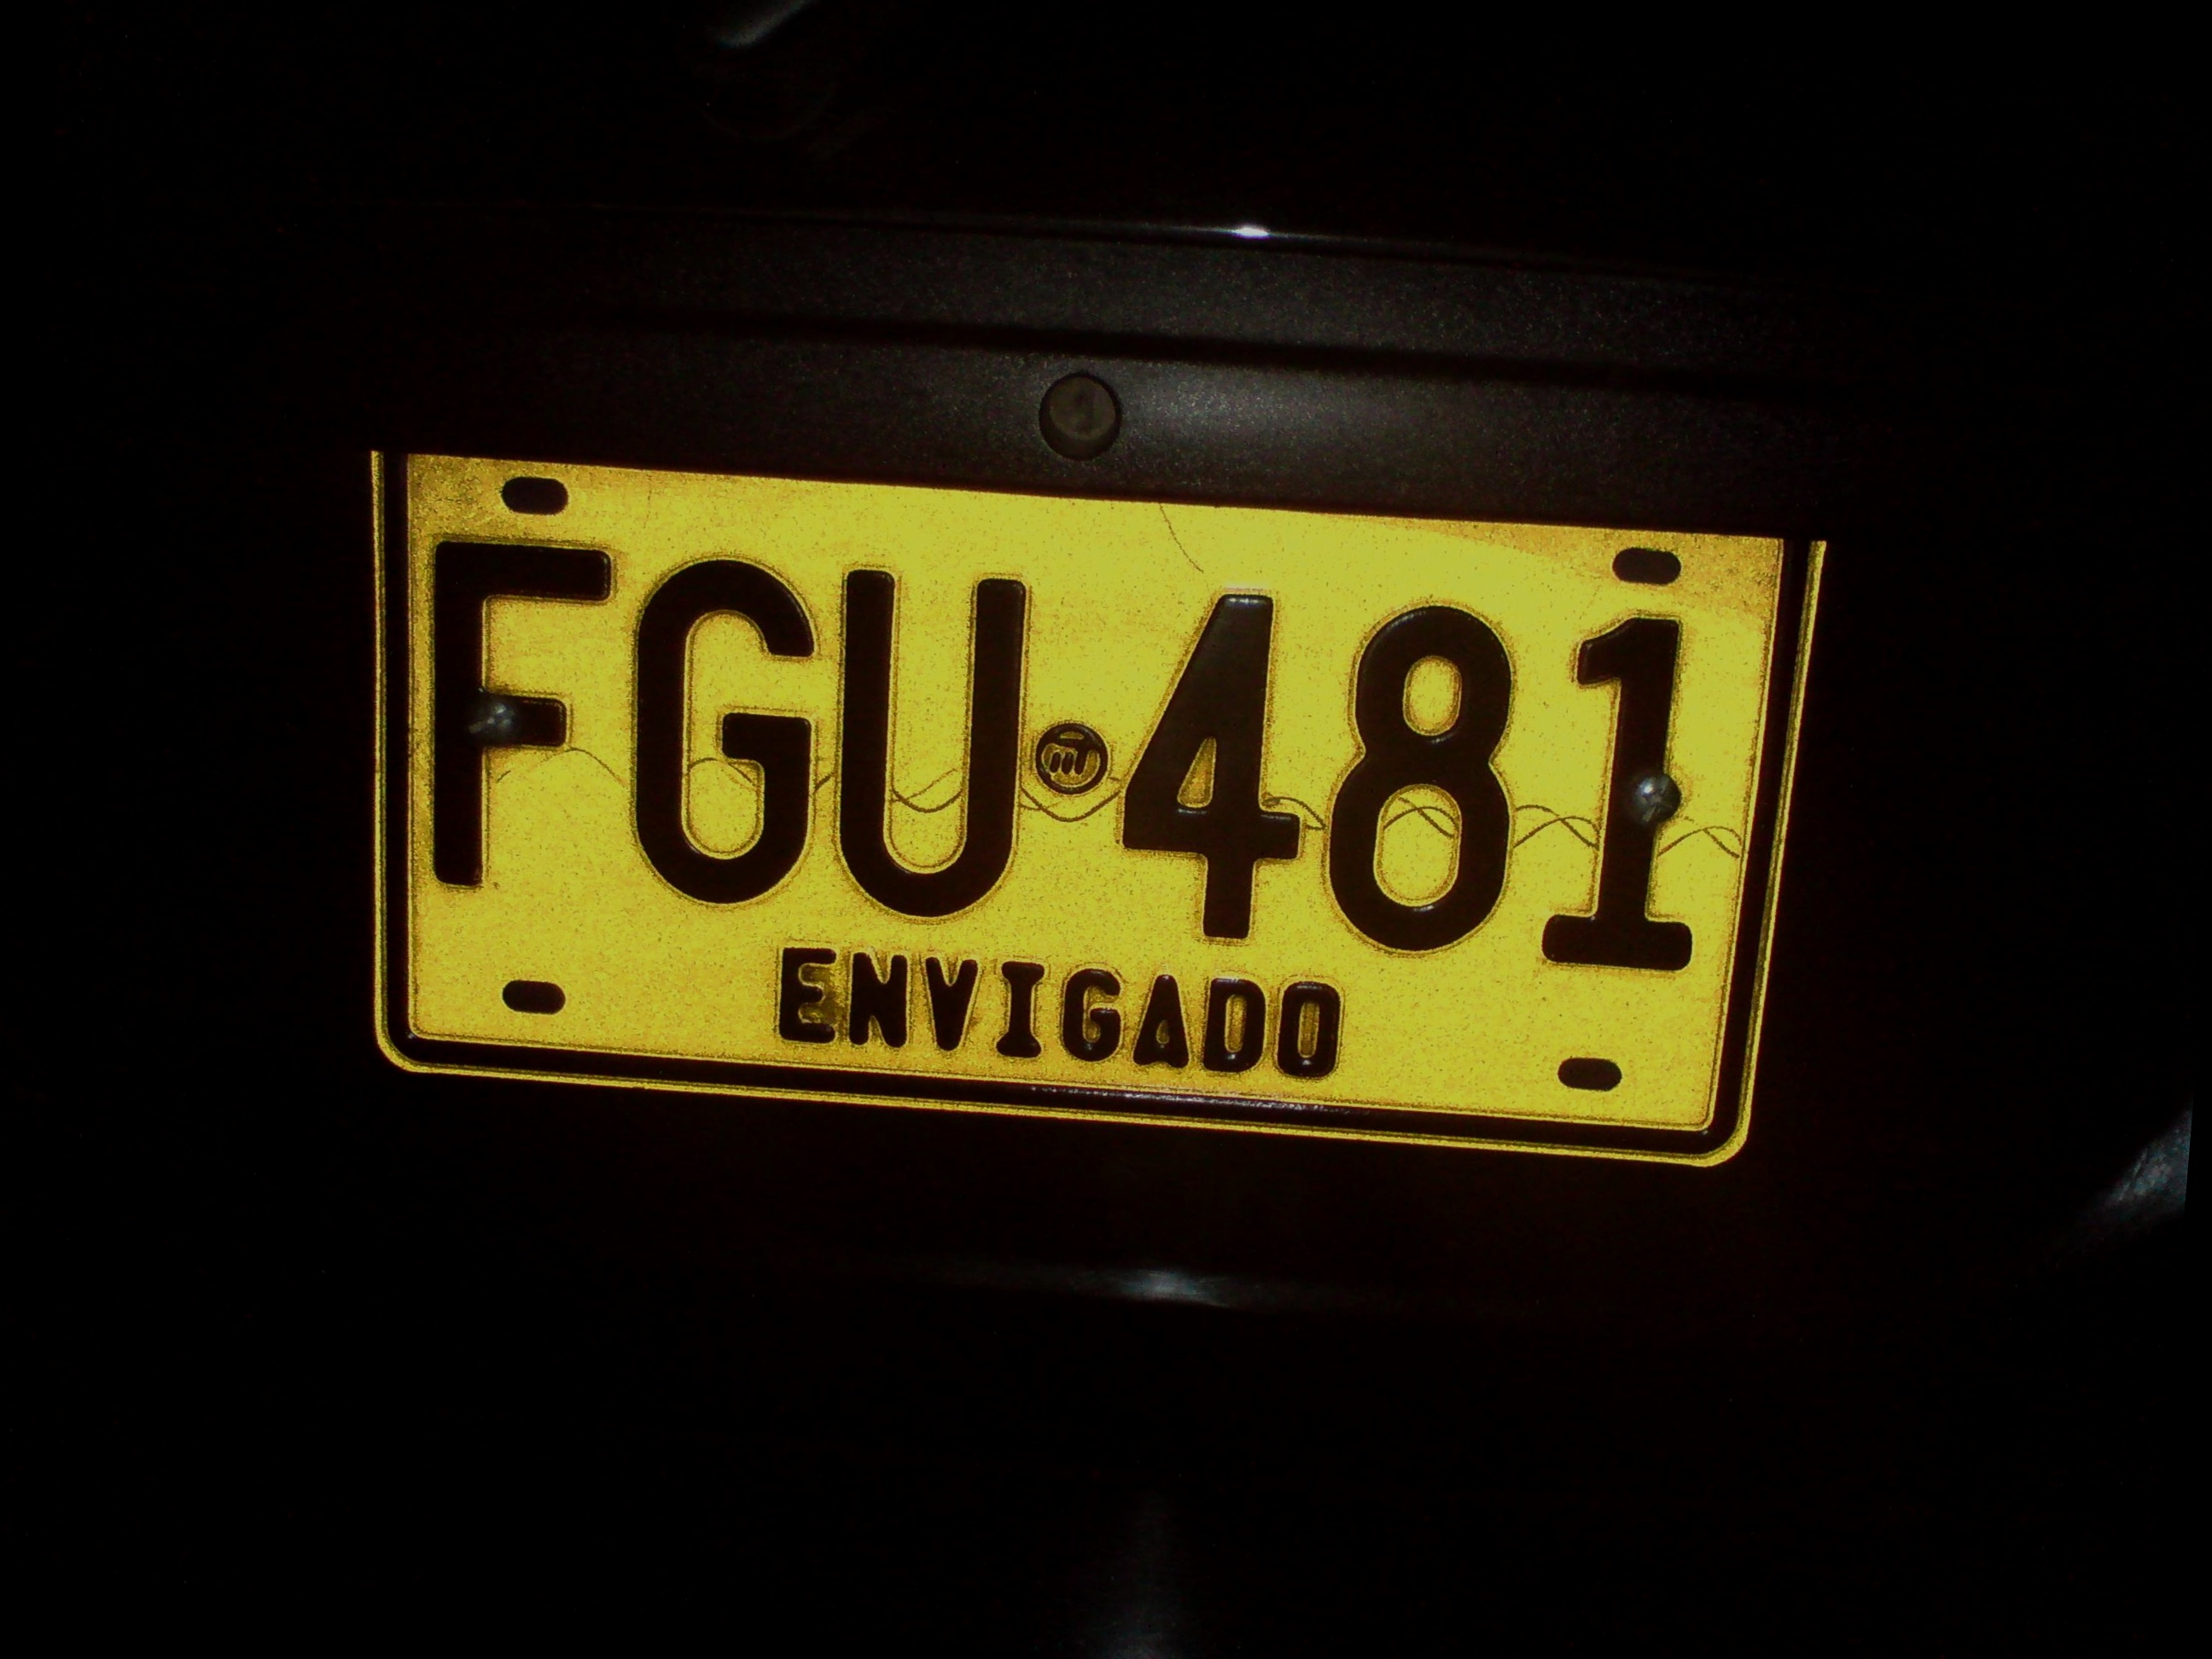placas: (310, 410, 1837, 1185)
